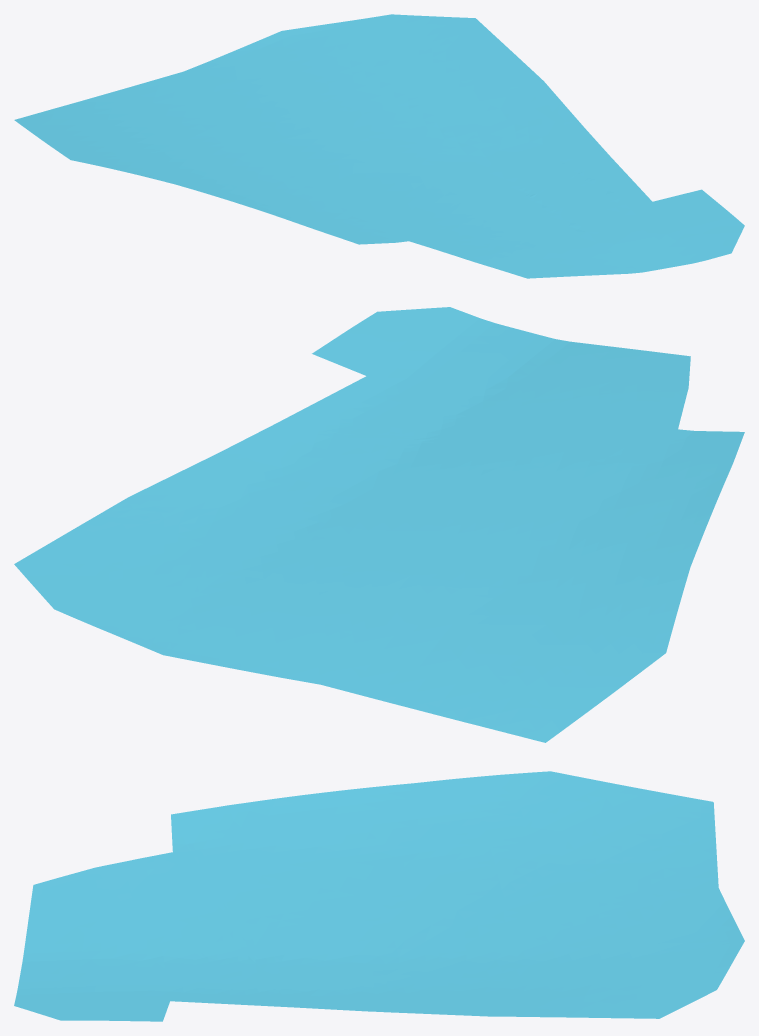
File: moonlake.glb
3 views of the same model, one above another, from view 1: azimuth 30°, elevation 25°; view 2: azimuth 150°, elevation 25°; view 3: azimuth 270°, elevation 25° (orthographic). The views are drawn at different scales.
Size of the model in its own units: 55.15 by 4.04 by 70.55.
